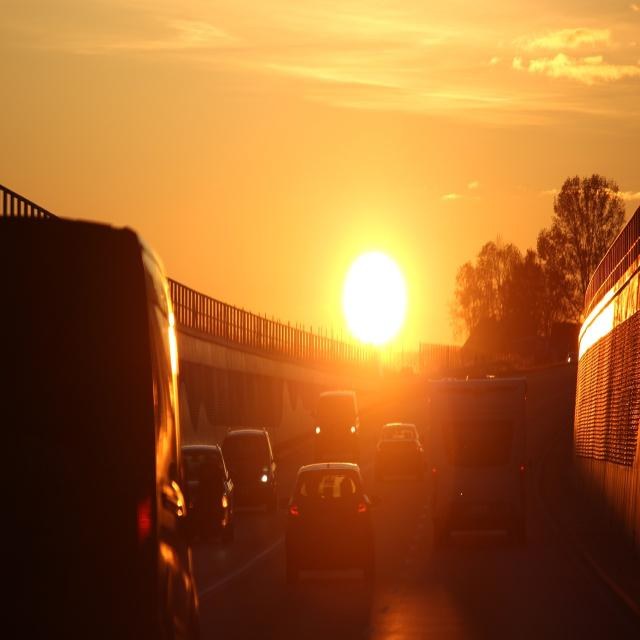sun: (331, 225, 422, 383)
